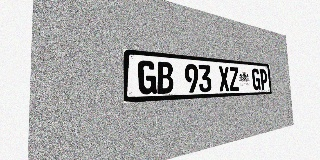3: (198, 64, 211, 92)
9: (184, 63, 199, 93)
B: (156, 61, 174, 94)
G: (138, 60, 157, 95), (252, 68, 261, 90)
P: (259, 69, 268, 90)
X: (218, 66, 230, 91)
Z: (229, 67, 239, 91)
